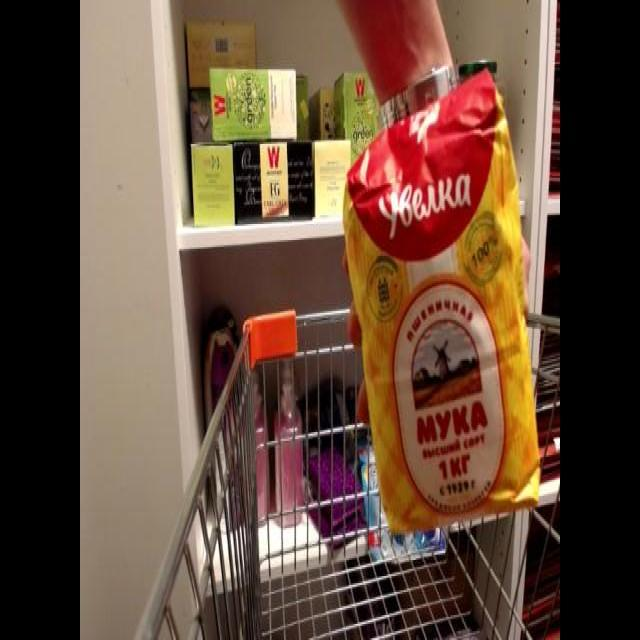Flour: (340, 59, 543, 526)
